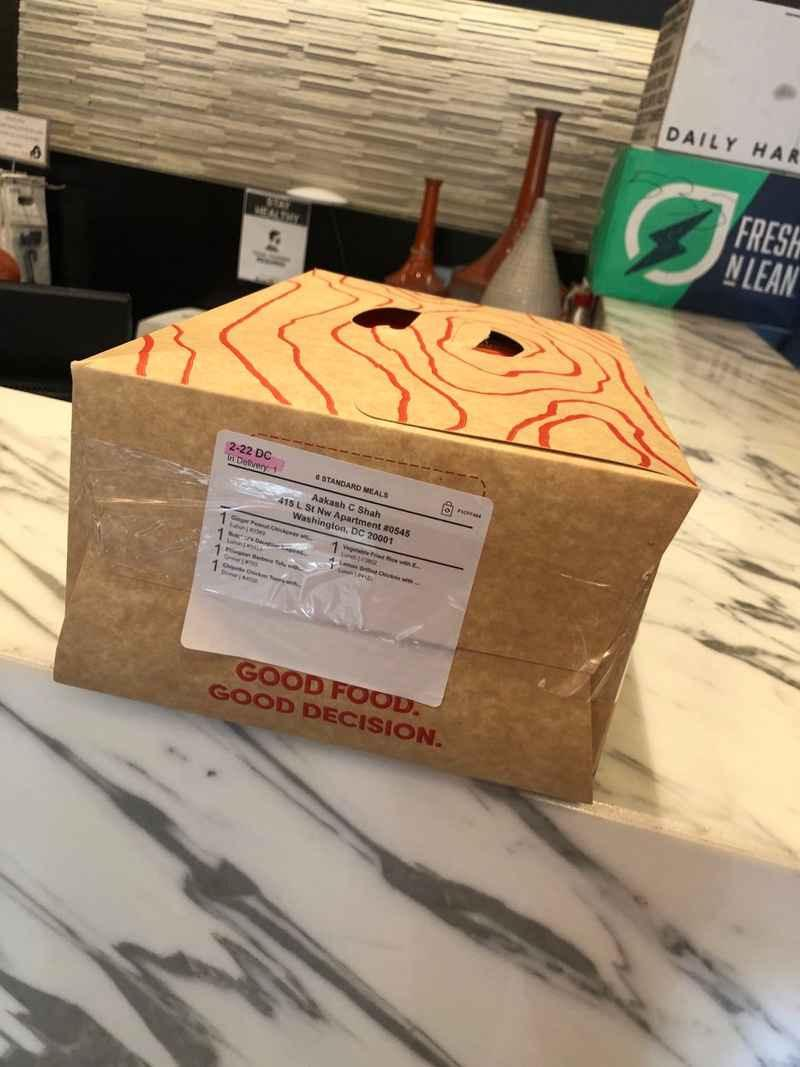package: (60, 264, 691, 797)
